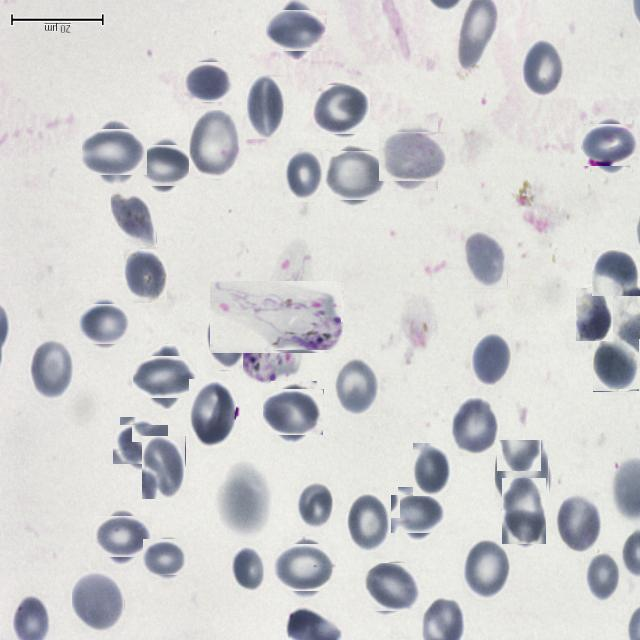red blood cell: (495, 440, 549, 510), (189, 110, 241, 179), (383, 128, 442, 186), (326, 146, 384, 204), (72, 571, 125, 633), (189, 379, 236, 448), (87, 124, 143, 180), (278, 540, 333, 595), (266, 384, 321, 438), (314, 82, 368, 137), (463, 538, 510, 600), (502, 478, 546, 544), (138, 350, 192, 403), (451, 396, 498, 456), (142, 436, 186, 500), (365, 561, 418, 614), (522, 37, 566, 100), (30, 336, 74, 399), (556, 493, 602, 553), (270, 5, 322, 56), (335, 358, 380, 416), (247, 75, 287, 140), (347, 492, 390, 552), (464, 232, 508, 289), (97, 512, 147, 562), (586, 120, 636, 170), (593, 339, 640, 392), (111, 194, 157, 247), (124, 249, 168, 304), (140, 140, 188, 190), (116, 421, 164, 468), (81, 301, 128, 348), (592, 250, 640, 296), (471, 333, 511, 387), (205, 312, 242, 370), (394, 491, 440, 537), (284, 148, 322, 202), (413, 443, 451, 496), (576, 288, 613, 341), (186, 60, 230, 104), (297, 478, 335, 528), (584, 551, 620, 602), (146, 536, 187, 578), (232, 547, 264, 591)
trophozoite: (224, 266, 328, 368)
